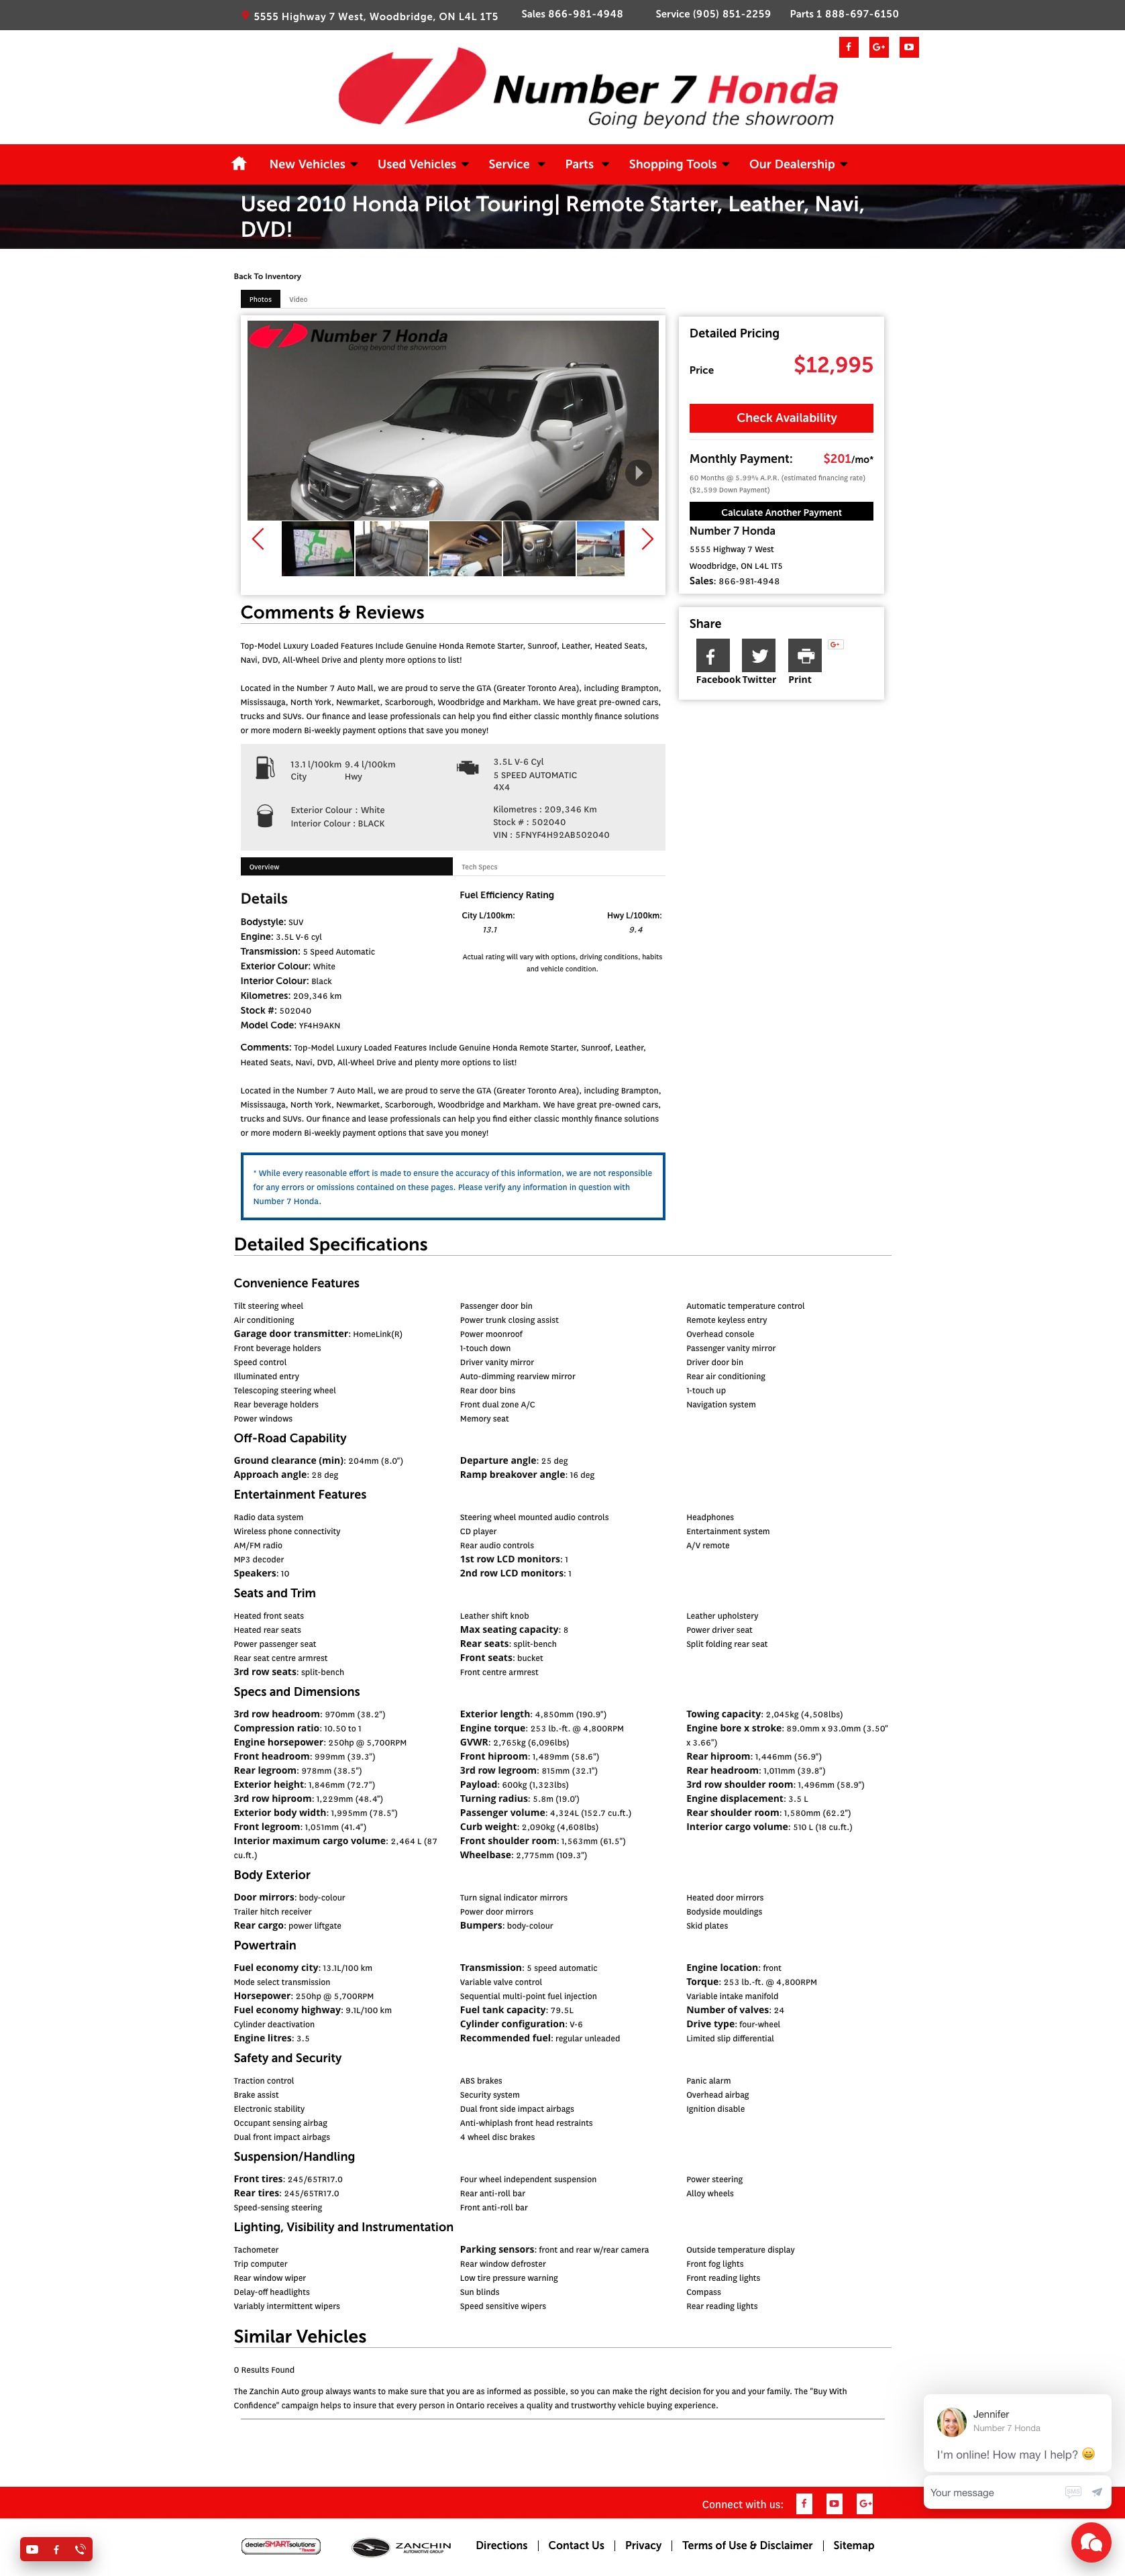car: (641, 527, 655, 550)
